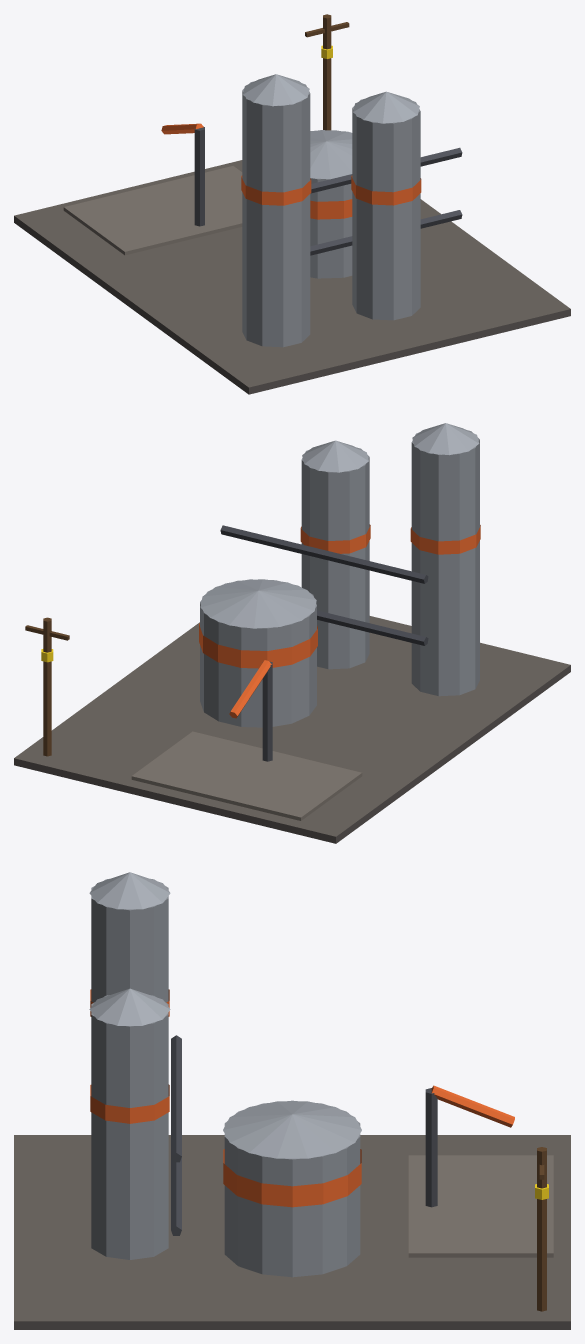
File: fuel_plant.obj
The picture shows the model from 3 angles, top to bottom: view 1: azimuth 30°, elevation 25°; view 2: azimuth 150°, elevation 25°; view 3: azimuth 270°, elevation 25°; orthographic projection. The views are drawn at different scales.
Size of the model in its own units: 3.8 by 3 by 4.8.
